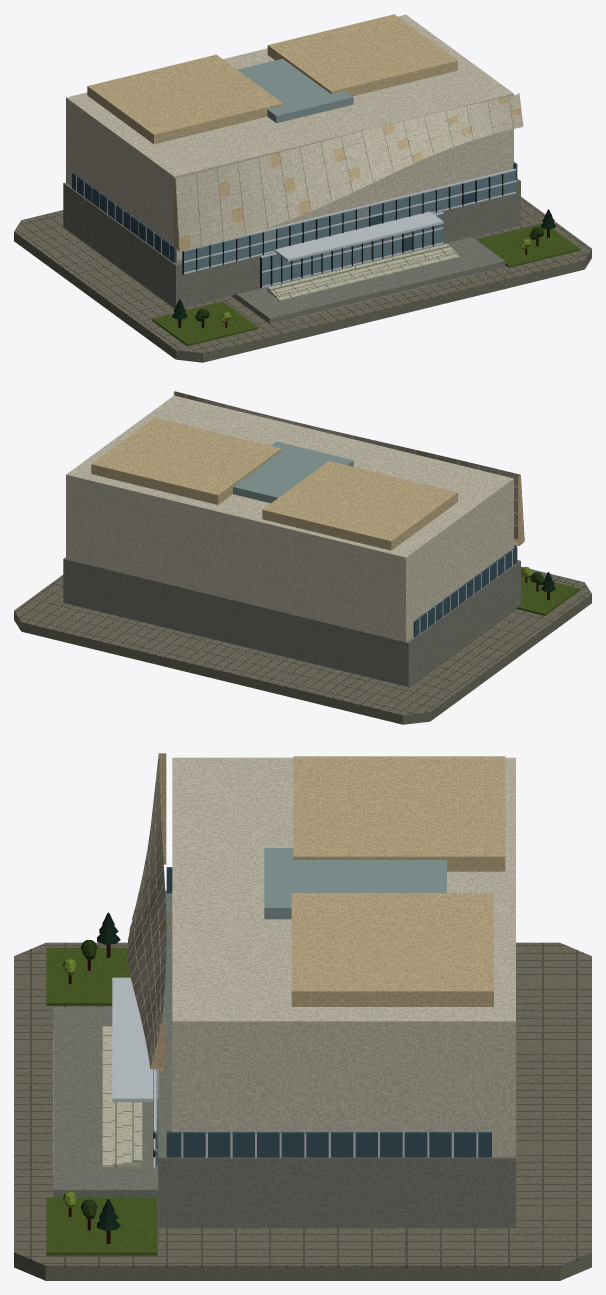
The model's file is shanghai-museum-east.glb.
3 renders of one model, top to bottom at view 1: azimuth 30°, elevation 25°; view 2: azimuth 150°, elevation 25°; view 3: azimuth 270°, elevation 25°, orthographic. The views are drawn at different scales.
Visible parts, largest first — view 1: 上海博物馆东馆; view 2: 上海博物馆东馆; view 3: 上海博物馆东馆.
Boxes of the visible parts, x1,y1,x2,y2 form: 上海博物馆东馆: (14,14,591,362); 上海博物馆东馆: (14,391,591,724); 上海博物馆东馆: (14,753,591,1280).
Bounding box in the file's own units: 11.9 × 4.22 × 9.
17 materials, 13 textured.
